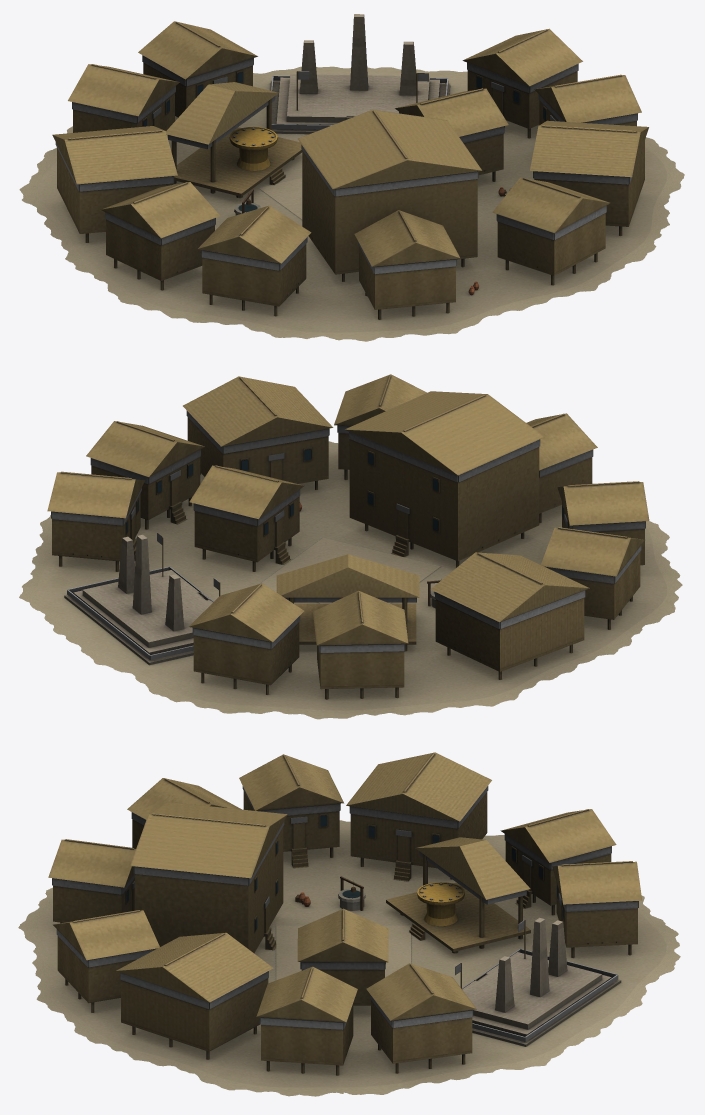
File: bronze-town-medium-a-monsoon-fbca8a36.glb
3 renders of one model, top to bottom at view 1: azimuth 30°, elevation 25°; view 2: azimuth 150°, elevation 25°; view 3: azimuth 270°, elevation 25°, orthographic.
Parts seen in each view (by area): view 1: LOD0; view 2: LOD0; view 3: LOD0.
Boxes of the visible parts, box(x1,y1,x2,y2) form: LOD0: box(19, 14, 684, 341); LOD0: box(19, 374, 682, 719); LOD0: box(18, 752, 680, 1096).
Size of what is drawn, in the model's own units: 5.91 by 1.22 by 6.03.
Materials: 3 (3 with a texture image).
